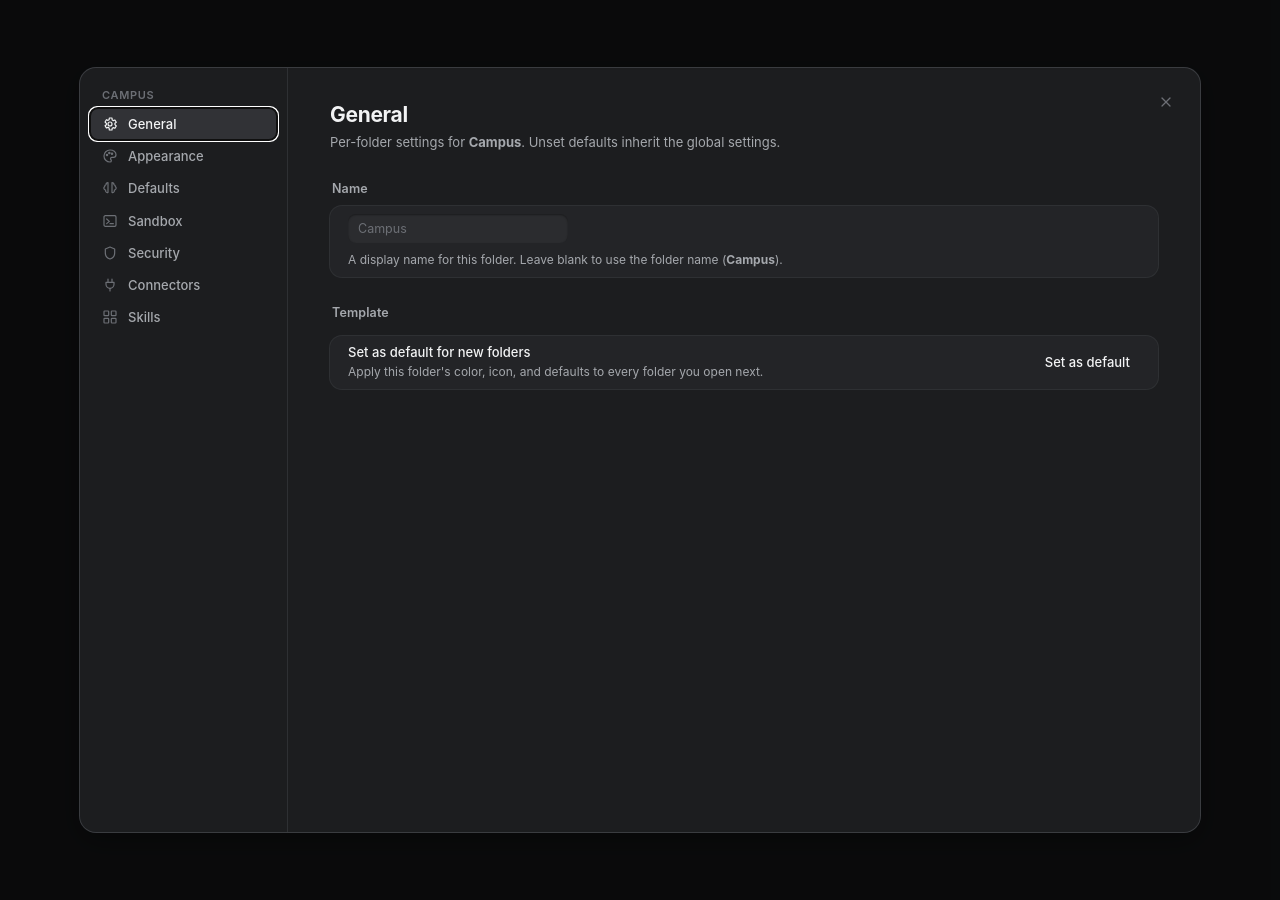
Test: ProjectSettingsModal — Security page › the Security nav item renders and switches to the page, showing trust status
Click the button "Security" at (184, 253), box [90,237,277,269]
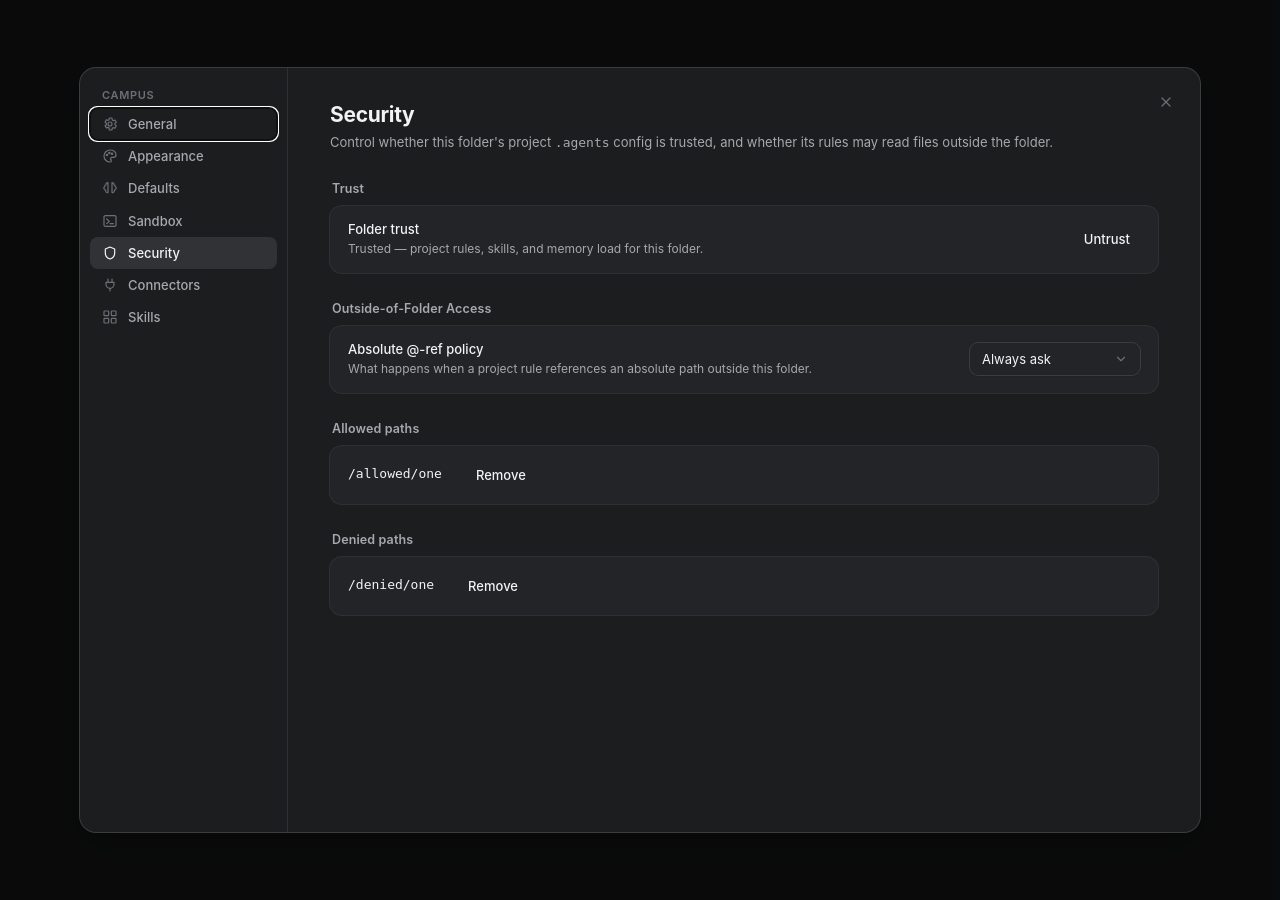
Check: the text "Security" below "Campus" is shown, box [128,245,180,261]
Check: the text "Trusted" is shown, box [348,240,703,256]
